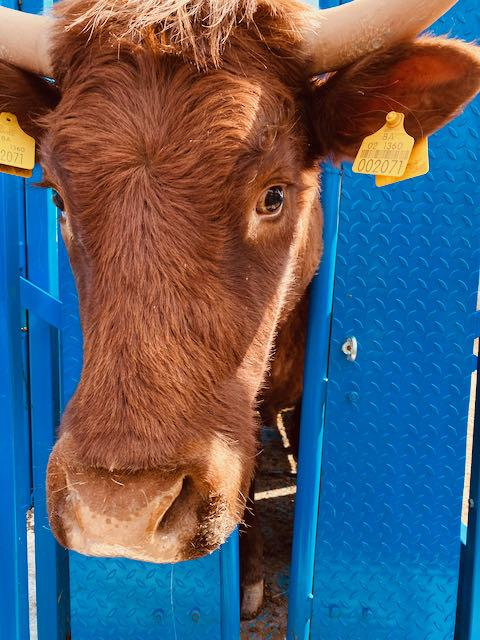muzzles: (25, 448, 257, 568)
